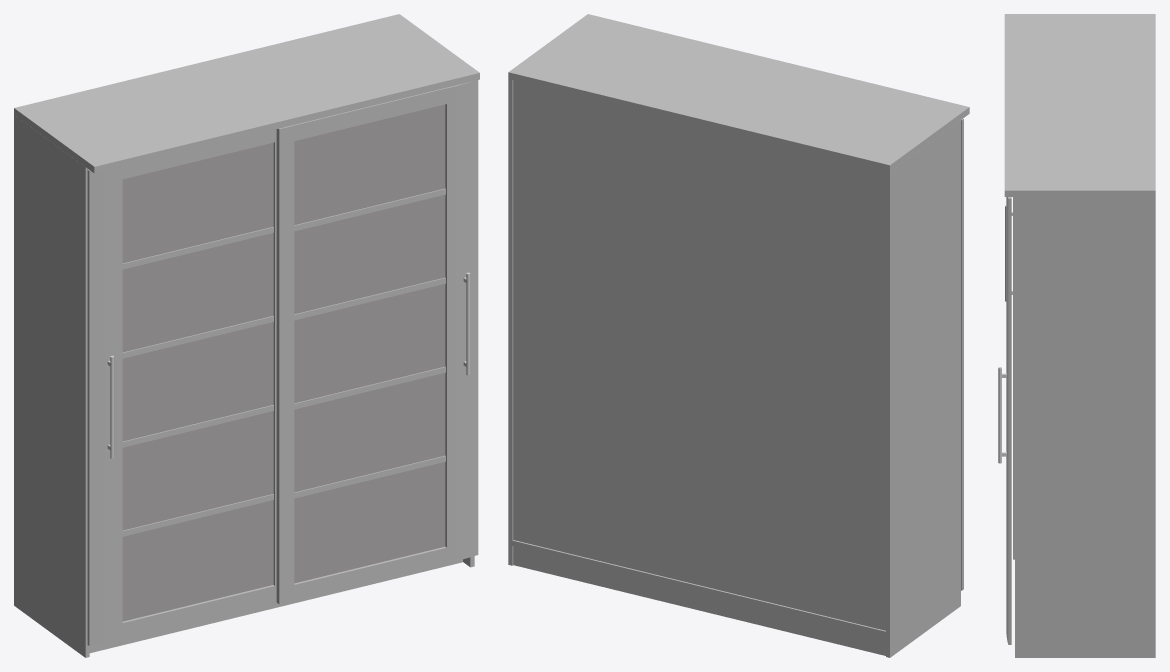
The model's file is armoireLotus.obj.
The picture shows the model from 3 angles, left to right: view 1: azimuth 30°, elevation 25°; view 2: azimuth 150°, elevation 25°; view 3: azimuth 270°, elevation 25°; orthographic projection. The views are drawn at different scales.
Visible parts, largest first — view 1: Cube_8_8, Cube_8_1_19, Cube_10_1_26, Cube_12_29, Boolean_1_1_20, Boolean_1_12, Cube_3_1, Cube_6_2, Cube_6_2_13, Cube_6_1_3, Cube_6_3_14, Cube_11_1_28 (+9 smaller); view 2: Cube_13_31, Cube_10_1_26, Cube_12_29, Cube_10_25, Cube_12_1_30, Boolean_1_1_20; view 3: Cube_10_25, Cube_12_29, Boolean_1_12, Cube_3_1_21, Cylinder_1_9.
Boxes of the visible parts, x1=… form: Cube_8_8: x1=294, y1=104, x2=445, y2=583; Cube_8_1_19: x1=122, y1=142, x2=273, y2=621; Cube_10_1_26: x1=14, y1=115, x2=89, y2=657; Cube_12_29: x1=14, y1=14, x2=479, y2=173; Boolean_1_1_20: x1=87, y1=167, x2=122, y2=645; Boolean_1_12: x1=445, y1=80, x2=478, y2=563; Cube_3_1: x1=276, y1=125, x2=294, y2=604; Cube_6_2: x1=294, y1=546, x2=446, y2=600; Cube_6_2_13: x1=122, y1=585, x2=274, y2=638; Cube_6_1_3: x1=294, y1=88, x2=446, y2=140; Cube_6_3_14: x1=122, y1=129, x2=274, y2=179; Cube_11_1_28: x1=89, y1=559, x2=462, y2=653; Cube_13_31: x1=513, y1=80, x2=885, y2=655; Cube_10_1_26: x1=886, y1=120, x2=960, y2=657; Cube_12_29: x1=508, y1=14, x2=969, y2=171; Cube_10_25: x1=508, y1=79, x2=513, y2=565; Cube_12_1_30: x1=512, y1=540, x2=885, y2=636; Boolean_1_1_20: x1=961, y1=119, x2=963, y2=590; Cube_10_25: x1=1015, y1=197, x2=1155, y2=657; Cube_12_29: x1=1004, y1=14, x2=1155, y2=196; Boolean_1_12: x1=1006, y1=197, x2=1011, y2=644; Cube_3_1_21: x1=1013, y1=197, x2=1014, y2=559; Cylinder_1_9: x1=998, y1=367, x2=1001, y2=463.
Bounding box in the file's own units: 179 × 221 × 67.54.
